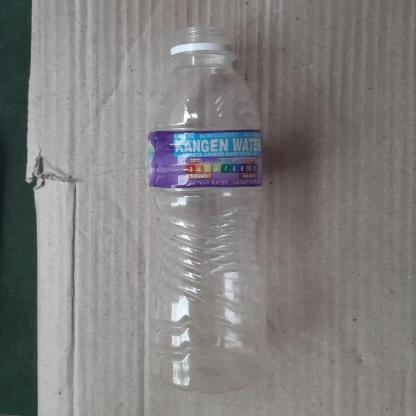Plastic Bottle: (145, 26, 268, 392)
